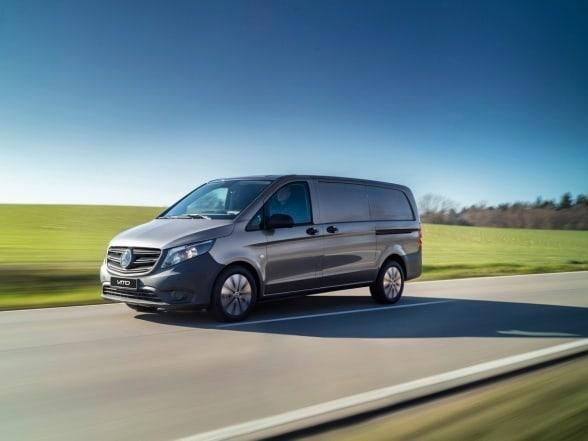van: (99, 174, 423, 324)
